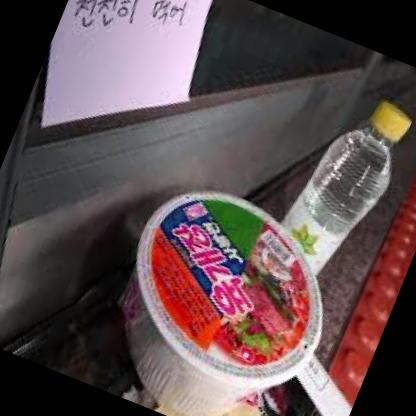Ramen: (88, 166, 359, 416)
